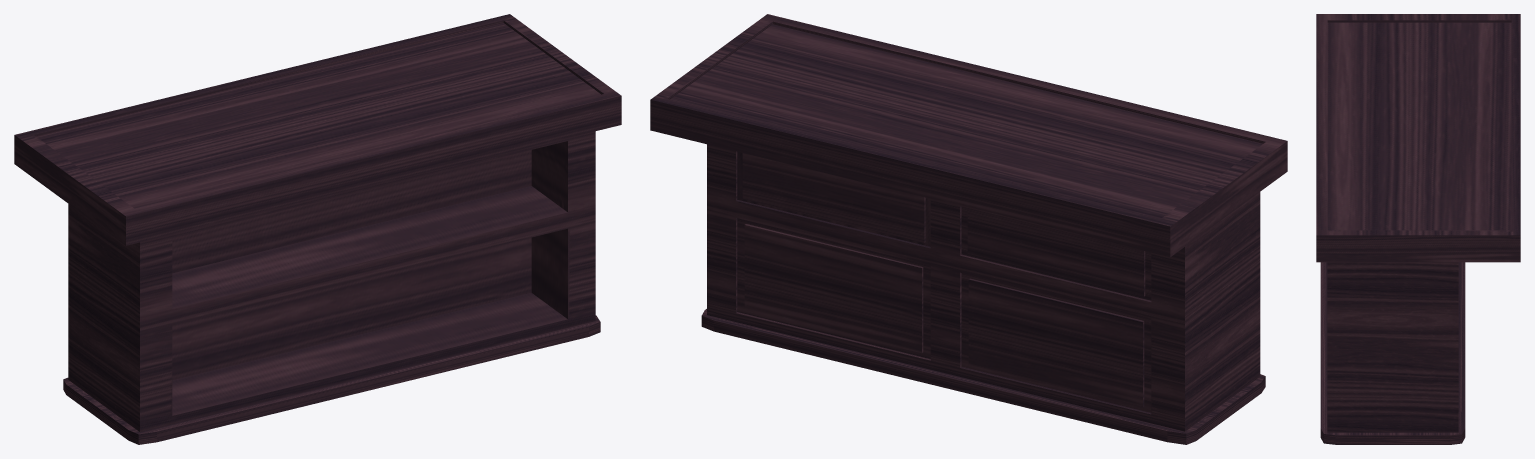
File: bar.fbx
3 renders of one model, left to right at view 1: azimuth 30°, elevation 25°; view 2: azimuth 150°, elevation 25°; view 3: azimuth 270°, elevation 25°, orthographic. The views are drawn at different scales.
Visible parts, largest first — view 1: pCube1; view 2: pCube1; view 3: pCube1.
Part boxes in pixels (x1,y1,x2,y2): pCube1: (14, 14, 621, 444); pCube1: (650, 14, 1287, 444); pCube1: (1316, 14, 1520, 444).
Size of the model in its own units: 2.66 by 1.21 by 1.04.
